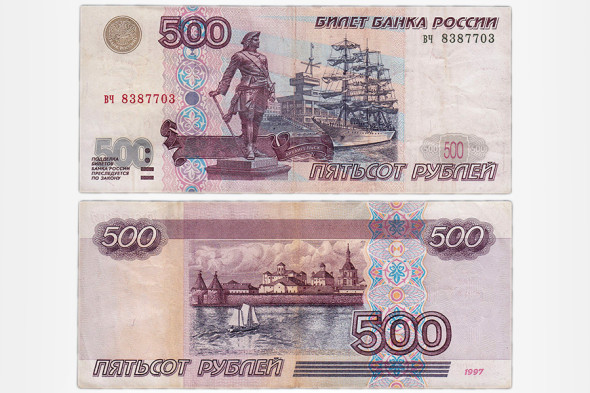cash: (78, 201, 512, 390), (79, 6, 512, 193)
